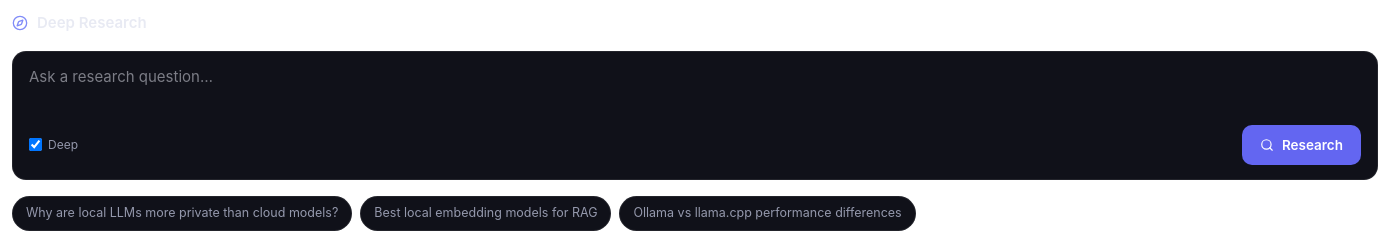
Test: ResearchPanel — 4 states (empty/researching/error/filled) › honest-empty: zero sources still renders the report text, not a blank/silent screen
Type "q" into the text box at [695, 88], box [29, 66, 1361, 110]
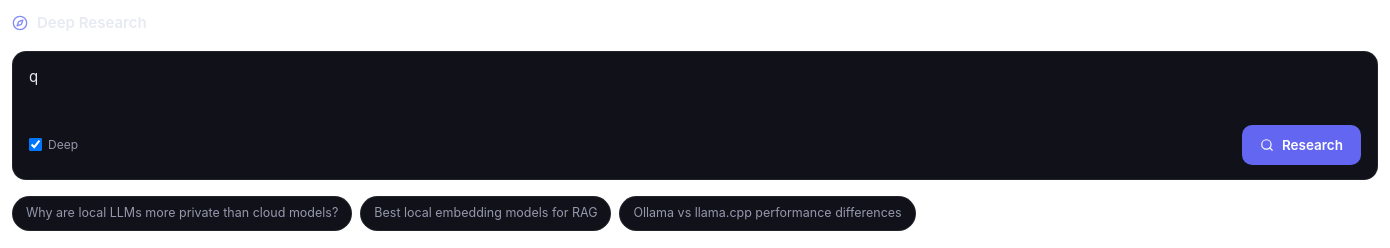
Click the button "Research" at [1301, 145], box [1242, 124, 1361, 165]
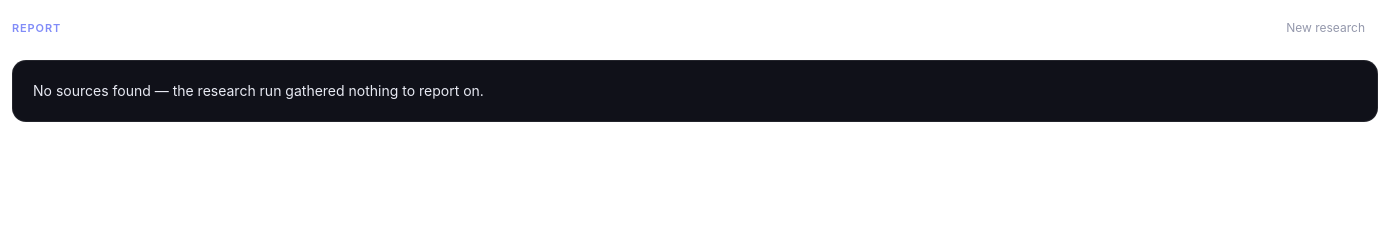
Expected: the text "No sources found" is shown, [33, 82, 484, 99]
